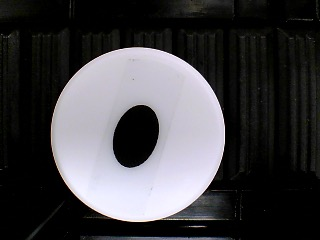BOHOEL: (50, 47, 226, 223)
